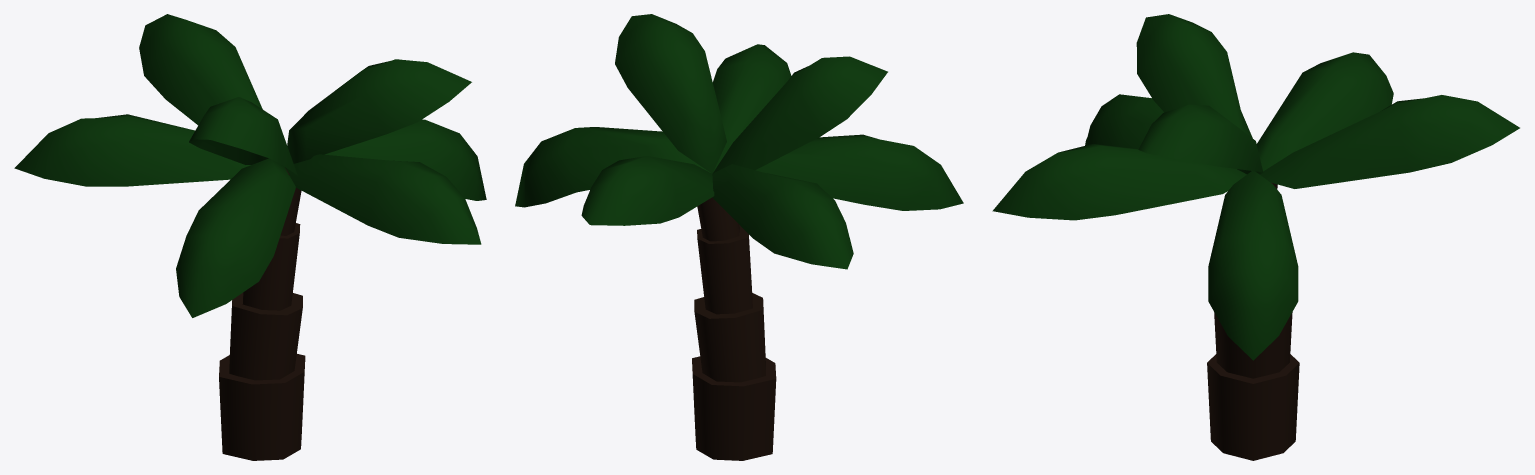
The model's file is Palm_tree.FBX.
3 views of the same model, side by side, from view 1: azimuth 30°, elevation 25°; view 2: azimuth 150°, elevation 25°; view 3: azimuth 270°, elevation 25° (orthographic). The views are drawn at different scales.
Parts seen in each view (by area): view 1: Palm_tree_leaf06, Palm_tree_leaf04, Palm_tree_leaf00, Palm_tree_leaf02, Palm_tree_leaf03, Palm_tree00, Palm_tree_leaf01, Palm_tree01, Palm_tree_leaf05, Palm_tree02, Palm_tree03; view 2: Palm_tree_leaf02, Palm_tree_leaf06, Palm_tree_leaf04, Palm_tree_leaf05, Palm_tree_leaf01, Palm_tree_leaf03, Palm_tree00, Palm_tree01, Palm_tree_leaf00, Palm_tree02, Palm_tree03; view 3: Palm_tree_leaf03, Palm_tree_leaf01, Palm_tree_leaf00, Palm_tree_leaf04, Palm_tree_leaf05, Palm_tree00, Palm_tree_leaf02, Palm_tree_leaf06, Palm_tree01.
Boxes of the visible parts, left/top/right/bottom form: Palm_tree_leaf06: left=176, top=158, right=295, bottom=317; Palm_tree_leaf04: left=14, top=114, right=250, bottom=186; Palm_tree_leaf00: left=285, top=154, right=481, bottom=244; Palm_tree_leaf02: left=287, top=59, right=471, bottom=163; Palm_tree_leaf03: left=139, top=14, right=262, bottom=125; Palm_tree00: left=219, top=354, right=305, bottom=460; Palm_tree_leaf01: left=325, top=119, right=486, bottom=200; Palm_tree01: left=229, top=292, right=302, bottom=380; Palm_tree_leaf05: left=189, top=97, right=297, bottom=175; Palm_tree02: left=242, top=223, right=300, bottom=310; Palm_tree03: left=280, top=168, right=301, bottom=235; Palm_tree_leaf02: left=615, top=14, right=726, bottom=173; Palm_tree_leaf06: left=755, top=134, right=963, bottom=210; Palm_tree_leaf04: left=712, top=164, right=853, bottom=269; Palm_tree_leaf05: left=712, top=56, right=887, bottom=173; Palm_tree_leaf01: left=515, top=127, right=710, bottom=207; Palm_tree_leaf03: left=581, top=156, right=714, bottom=225; Palm_tree00: left=692, top=356, right=776, bottom=460; Palm_tree01: left=694, top=293, right=765, bottom=382; Palm_tree_leaf00: left=712, top=44, right=791, bottom=172; Palm_tree02: left=697, top=225, right=752, bottom=314; Palm_tree03: left=697, top=197, right=739, bottom=241; Palm_tree_leaf03: left=1260, top=95, right=1519, bottom=188; Palm_tree_leaf01: left=1208, top=171, right=1298, bottom=360; Palm_tree_leaf00: left=992, top=144, right=1246, bottom=220; Palm_tree_leaf04: left=1256, top=52, right=1393, bottom=171; Palm_tree_leaf05: left=1136, top=14, right=1252, bottom=138; Palm_tree00: left=1207, top=354, right=1299, bottom=460; Palm_tree_leaf02: left=1138, top=104, right=1263, bottom=174; Palm_tree_leaf06: left=1085, top=94, right=1163, bottom=148; Palm_tree01: left=1214, top=312, right=1292, bottom=378.
Size of the model in its own units: 120 by 109 by 134.
